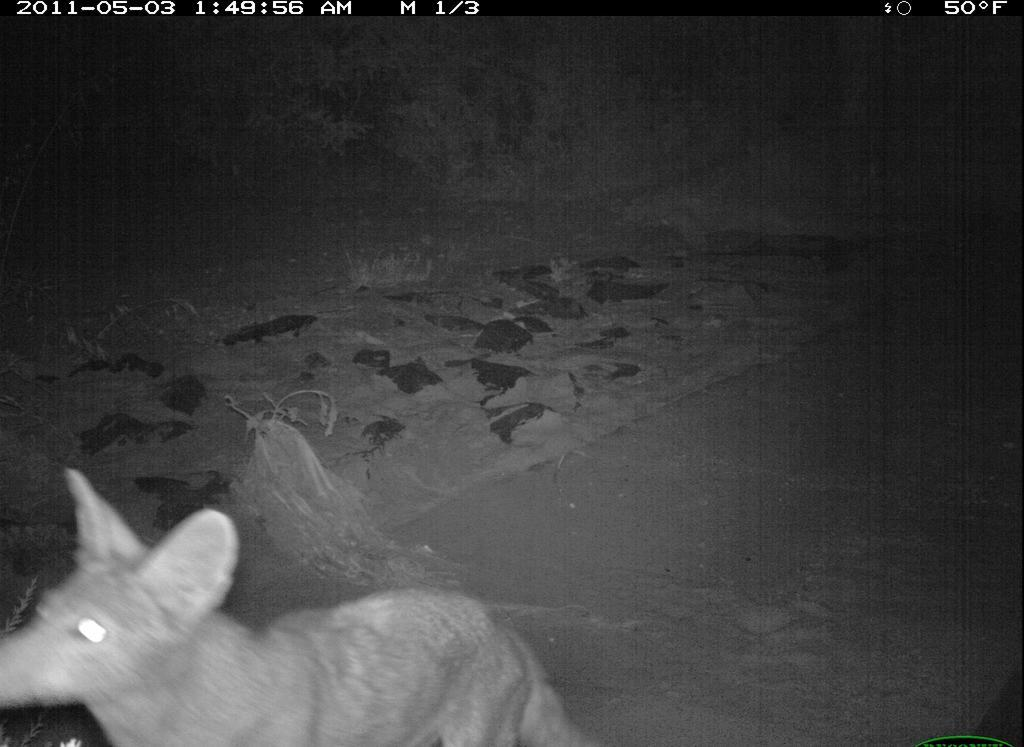coyote: (1, 462, 623, 747)
